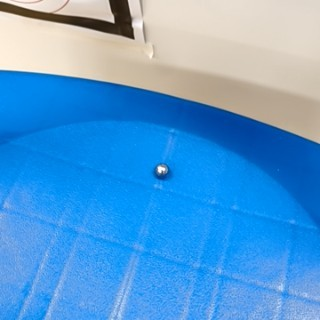ironball: (143, 159, 174, 185)
